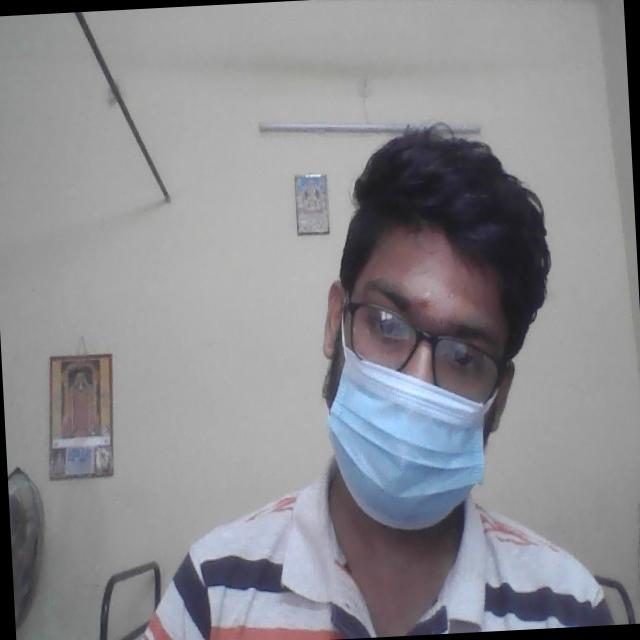Focused: (341, 284, 513, 473)
